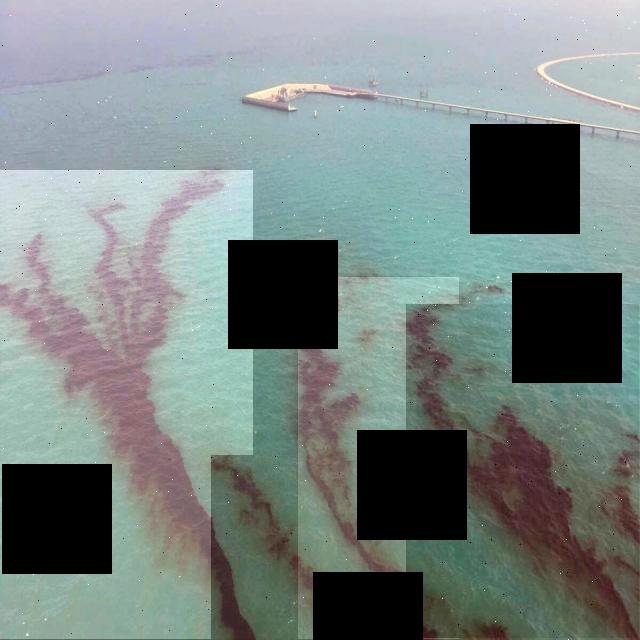oil spill: (0, 171, 253, 640), (407, 305, 639, 638), (298, 278, 459, 640), (211, 456, 365, 639)
